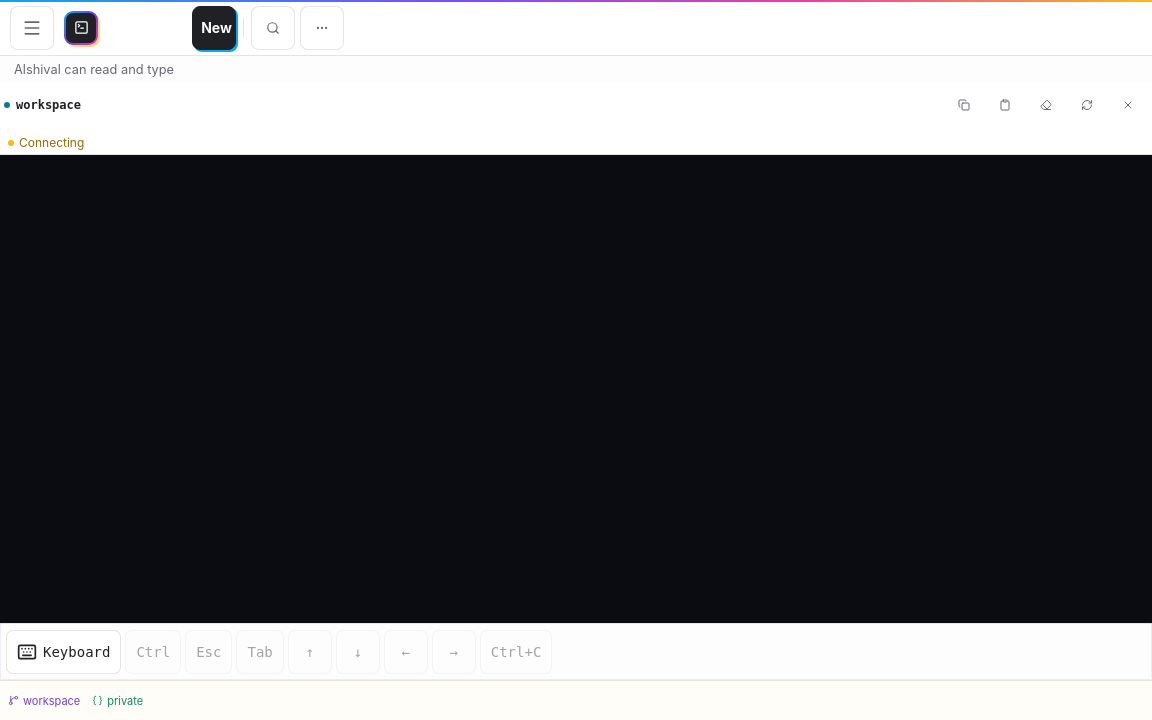
Test: Terminal app › shows an actionable mobile paste error instead of silently doing nothing
Click the button named "Paste into workspace" at (1005, 105), box [985,83,1025,127]
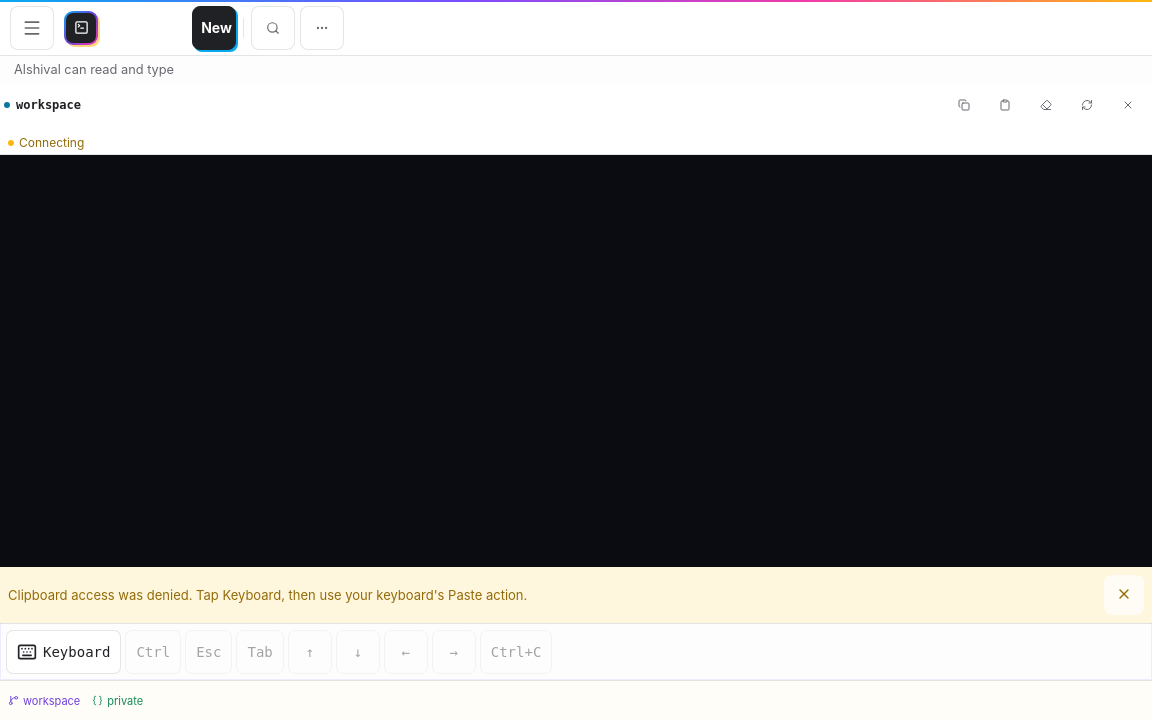
Result: the text "Clipboard access was denied" is shown at [8,587,527,603]
